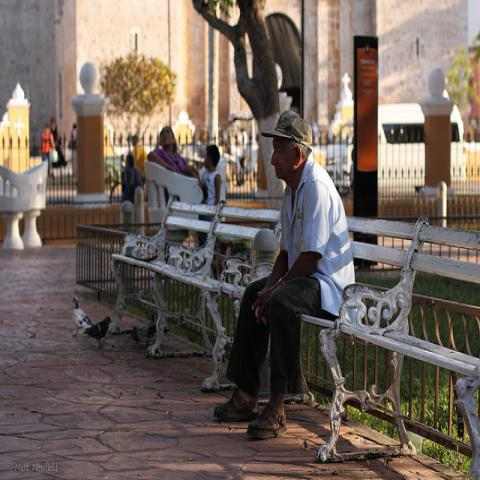bus: (378, 102, 467, 186)
